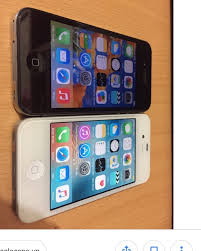iphone: (11, 110, 161, 225)
iphone4: (12, 110, 162, 225)
